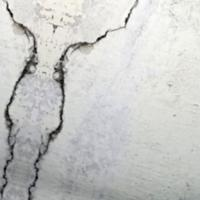crack: (1, 0, 138, 199)
